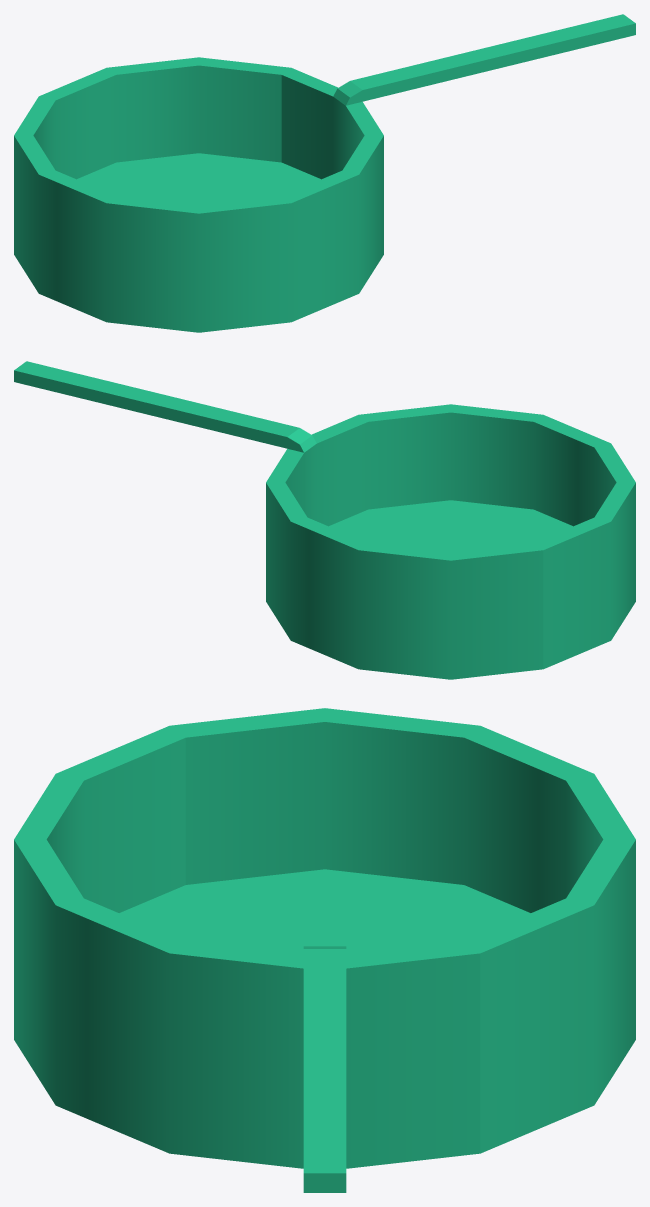
File: Pot001.FBX
3 renders of one model, top to bottom at view 1: azimuth 30°, elevation 25°; view 2: azimuth 150°, elevation 25°; view 3: azimuth 270°, elevation 25°, orthographic. The views are drawn at different scales.
Visible parts, largest first — view 1: Pot001; view 2: Pot001; view 3: Pot001.
Boxes of the visible parts, <box> form: Pot001: <box>14,14,635,332</box>; Pot001: <box>14,361,635,679</box>; Pot001: <box>14,708,635,1192</box>.
Bounding box in the file's own units: 0.7843 × 0.1658 × 0.4253.
